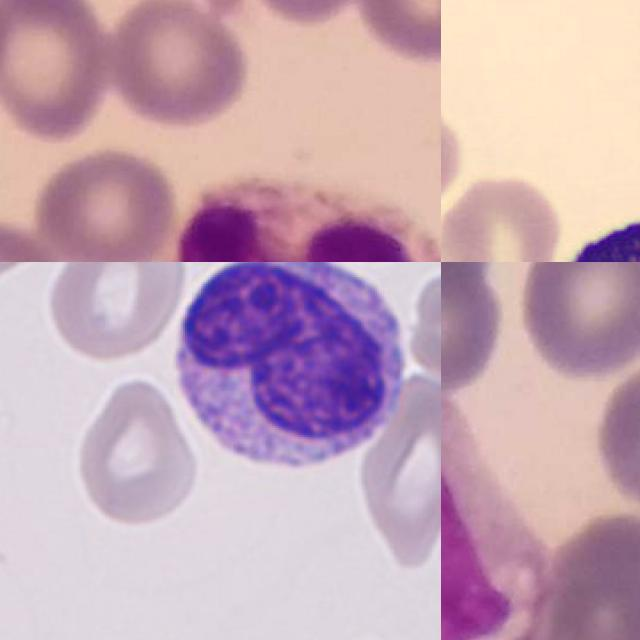Lymphocyte: (165, 262, 416, 481)
Monocyte: (441, 385, 552, 640)
Neutrophil: (173, 173, 441, 262)
RBC: (73, 375, 201, 531), (352, 369, 441, 571), (44, 262, 192, 365), (441, 168, 566, 262), (0, 506, 34, 640), (403, 266, 441, 385), (441, 84, 471, 221), (0, 262, 50, 300)
